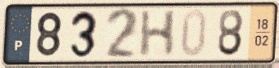0: (179, 8, 210, 59)
2: (104, 7, 140, 61)
3: (68, 8, 102, 61)
8: (216, 8, 245, 59), (34, 10, 64, 59)
H: (137, 8, 179, 60)
